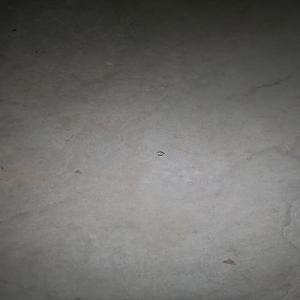Nut: (156, 152, 164, 157)
